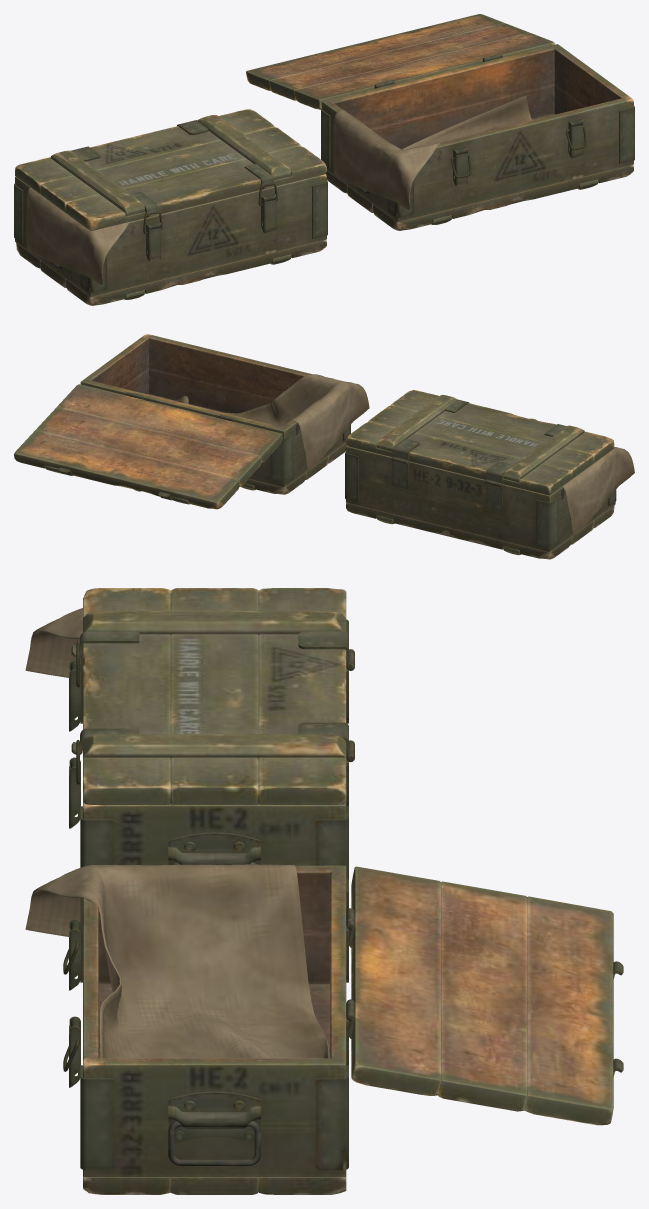
Rendered from old_military_crate.glb.
The picture shows the model from 3 angles, top to bottom: view 1: azimuth 30°, elevation 25°; view 2: azimuth 150°, elevation 25°; view 3: azimuth 270°, elevation 25°; orthographic projection. The views are drawn at different scales.
Parts seen in each view (by area): view 1: old_military_crate_b, old_military_crate_lid_a, old_military_crate_a, old_military_crate_lid_b, old_military_crate_cloth_b, old_military_crate_cloth_a, old_military_crate_latch_a, old_military_crate_latch_b; view 2: old_military_crate_lid_b, old_military_crate_lid_a, old_military_crate_a, old_military_crate_b, old_military_crate_cloth_b, old_military_crate_cloth_a; view 3: old_military_crate_lid_a, old_military_crate_lid_b, old_military_crate_b, old_military_crate_cloth_b, old_military_crate_a, old_military_crate_cloth_a, old_military_crate_latch_b, old_military_crate_latch_a.
Boxes of the visible parts, <box> form: old_military_crate_b: <box>321,44,634,230</box>; old_military_crate_lid_a: <box>15,109,326,230</box>; old_military_crate_a: <box>14,174,327,305</box>; old_military_crate_lid_b: <box>246,14,555,109</box>; old_military_crate_cloth_b: <box>333,95,532,209</box>; old_military_crate_cloth_a: <box>26,187,129,284</box>; old_military_crate_latch_a: <box>146,194,276,261</box>; old_military_crate_latch_b: <box>453,119,583,186</box>; old_military_crate_lid_b: <box>14,384,282,509</box>; old_military_crate_lid_a: <box>346,390,614,495</box>; old_military_crate_a: <box>345,446,616,559</box>; old_military_crate_b: <box>80,334,350,494</box>; old_military_crate_cloth_b: <box>174,374,369,470</box>; old_military_crate_cloth_a: <box>562,447,634,535</box>; old_military_crate_lid_a: <box>71,588,354,804</box>; old_military_crate_lid_b: <box>346,866,623,1125</box>; old_military_crate_b: <box>80,865,354,1194</box>; old_military_crate_cloth_b: <box>25,864,329,1058</box>; old_military_crate_a: <box>80,619,354,879</box>; old_military_crate_cloth_a: <box>25,608,82,677</box>; old_military_crate_latch_b: <box>69,919,80,1087</box>; old_military_crate_latch_a: <box>69,660,80,828</box>.
Bounding box in the file's own units: 1.82 × 0.3009 × 0.9757.
Materials: 1 (1 with a texture image).
